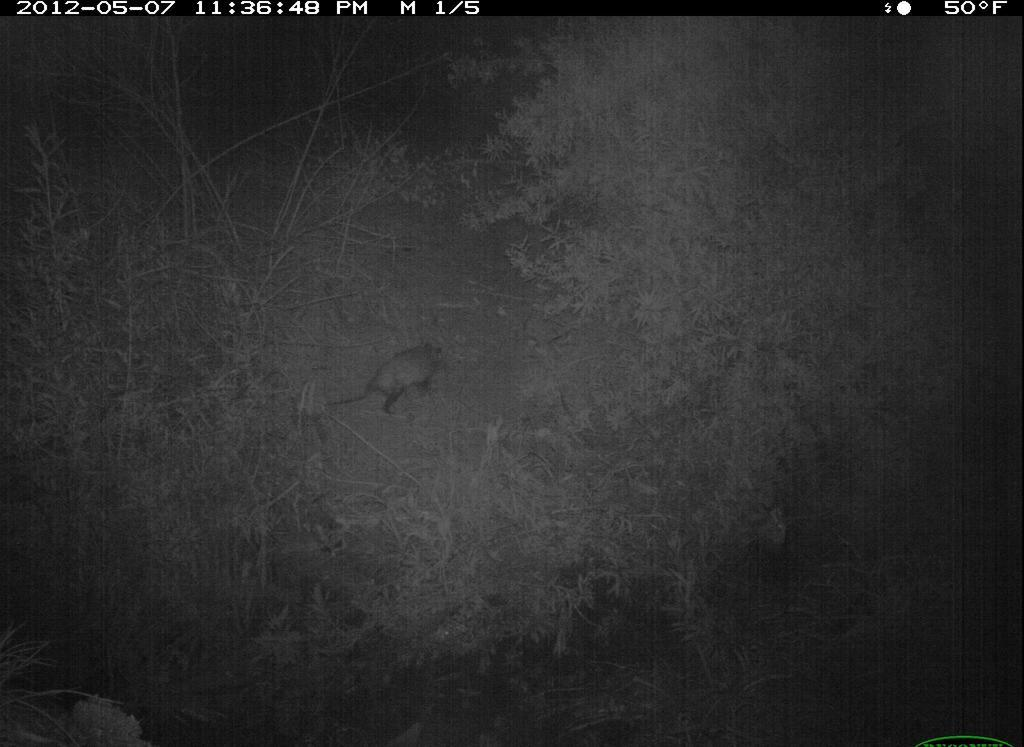opossum: (324, 335, 466, 429)
